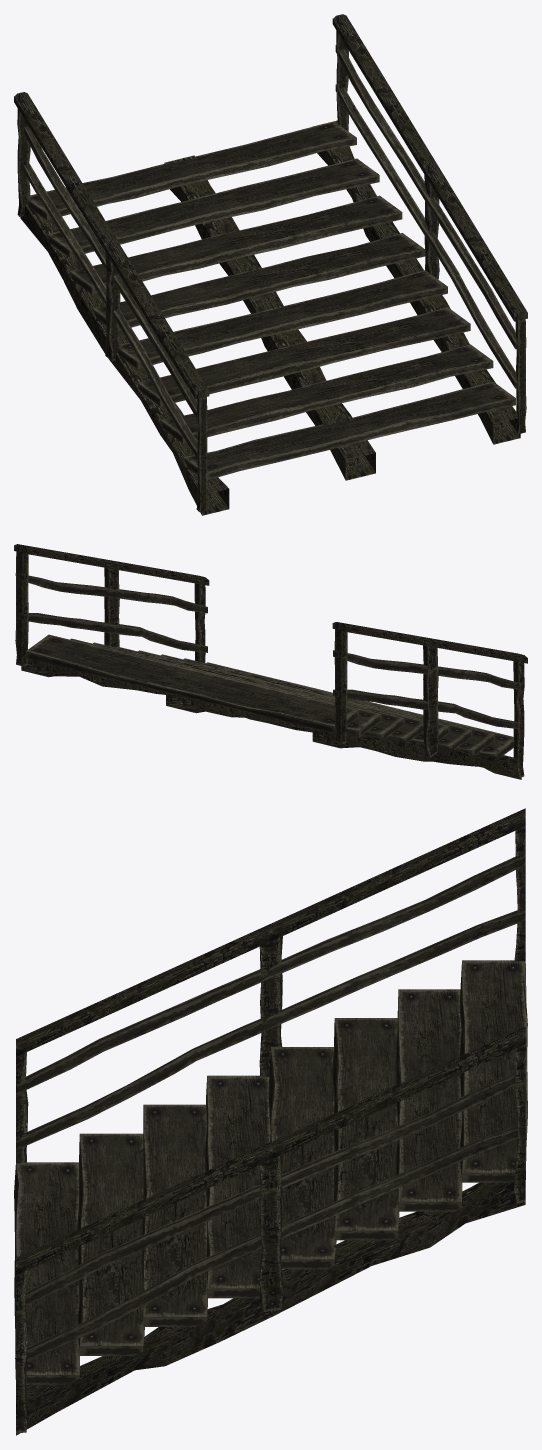
Rendered from wood.dae.
3 renders of one model, top to bottom at view 1: azimuth 30°, elevation 25°; view 2: azimuth 150°, elevation 25°; view 3: azimuth 270°, elevation 25°, orthographic. The views are drawn at different scales.
Parts seen in each view (by area): view 1: polySurface37, polySurface49, polySurface81, polySurface52, polySurface77, polySurface41, polySurface30, polySurface51, polySurface80, polySurface50, polySurface78, polySurface79; view 2: polySurface37, polySurface49, polySurface81, polySurface52, polySurface77, polySurface41, polySurface30, polySurface50, polySurface79, polySurface51, polySurface78, polySurface80; view 3: polySurface37, polySurface49, polySurface52, polySurface81, polySurface41, polySurface77, polySurface78, polySurface30, polySurface80, polySurface79, polySurface50, polySurface51.
Part boxes in pixels (x1,y1,x2,y2): polySurface37: [28, 121, 515, 480]; polySurface49: [20, 120, 520, 515]; polySurface81: [335, 45, 517, 388]; polySurface52: [23, 126, 207, 463]; polySurface77: [332, 14, 527, 321]; polySurface41: [14, 92, 209, 399]; polySurface30: [105, 253, 120, 361]; polySurface51: [196, 397, 207, 511]; polySurface80: [515, 319, 526, 434]; polySurface50: [17, 108, 30, 216]; polySurface78: [424, 175, 439, 279]; polySurface79: [336, 30, 348, 131]; polySurface37: [26, 634, 514, 757]; polySurface49: [21, 650, 521, 779]; polySurface81: [18, 573, 207, 652]; polySurface52: [333, 650, 518, 728]; polySurface77: [14, 544, 209, 585]; polySurface41: [332, 622, 527, 663]; polySurface30: [423, 645, 438, 757]; polySurface50: [334, 629, 347, 744]; polySurface79: [15, 551, 28, 666]; polySurface51: [513, 661, 524, 778]; polySurface78: [104, 567, 119, 647]; polySurface80: [194, 583, 205, 662]; polySurface37: [14, 960, 527, 1384]; polySurface49: [16, 968, 525, 1435]; polySurface52: [16, 855, 525, 1149]; polySurface81: [25, 1072, 518, 1360]; polySurface41: [16, 808, 525, 1056]; polySurface77: [16, 1027, 525, 1275]; polySurface78: [259, 1154, 283, 1311]; polySurface30: [259, 936, 282, 1077]; polySurface80: [16, 1270, 28, 1433]; polySurface79: [514, 1044, 525, 1202]; polySurface50: [514, 826, 525, 961]; polySurface51: [16, 1052, 28, 1163].
Size of what is drawn, in the model's own units: 4.23 by 3.53 by 4.03.
